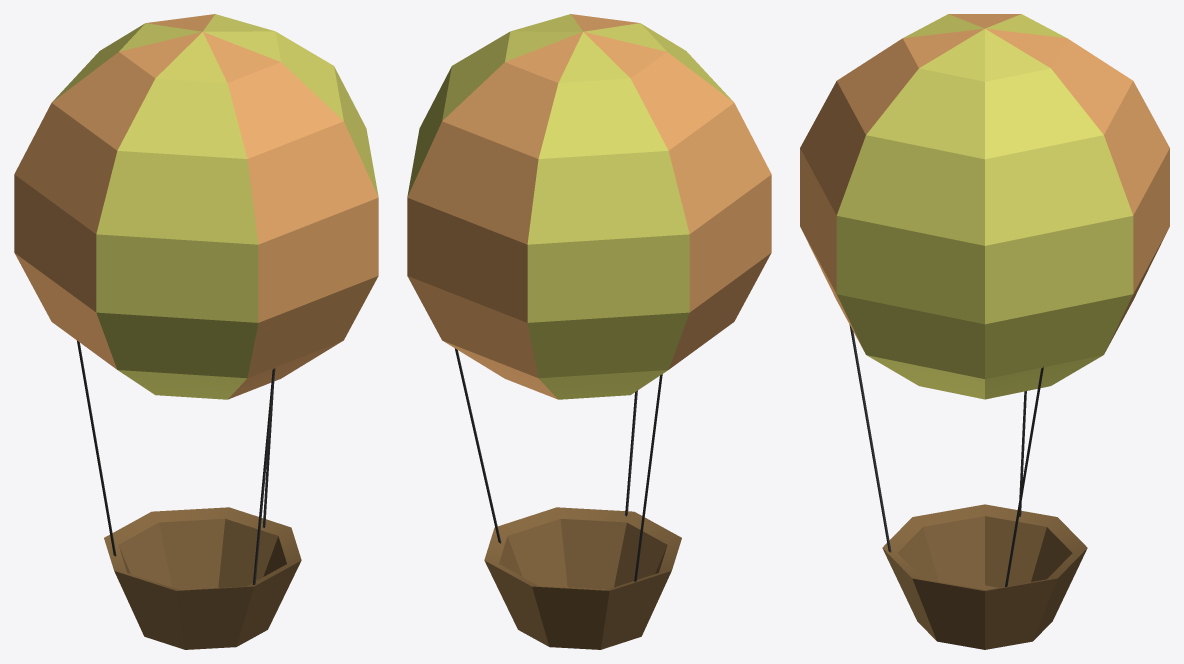
Rendered from BalloonCenter.fbx.
3 renders of one model, left to right at view 1: azimuth 30°, elevation 25°; view 2: azimuth 150°, elevation 25°; view 3: azimuth 270°, elevation 25°, orthographic.
Visible parts, largest first — view 1: pSphere4; view 2: pSphere4; view 3: pSphere4.
Part boxes in pixels (x1,y1,x2,y2): pSphere4: [14, 14, 378, 649]; pSphere4: [407, 14, 771, 649]; pSphere4: [800, 14, 1169, 649].
Bounding box in the file's own units: 10.38 × 18.83 × 10.65.
